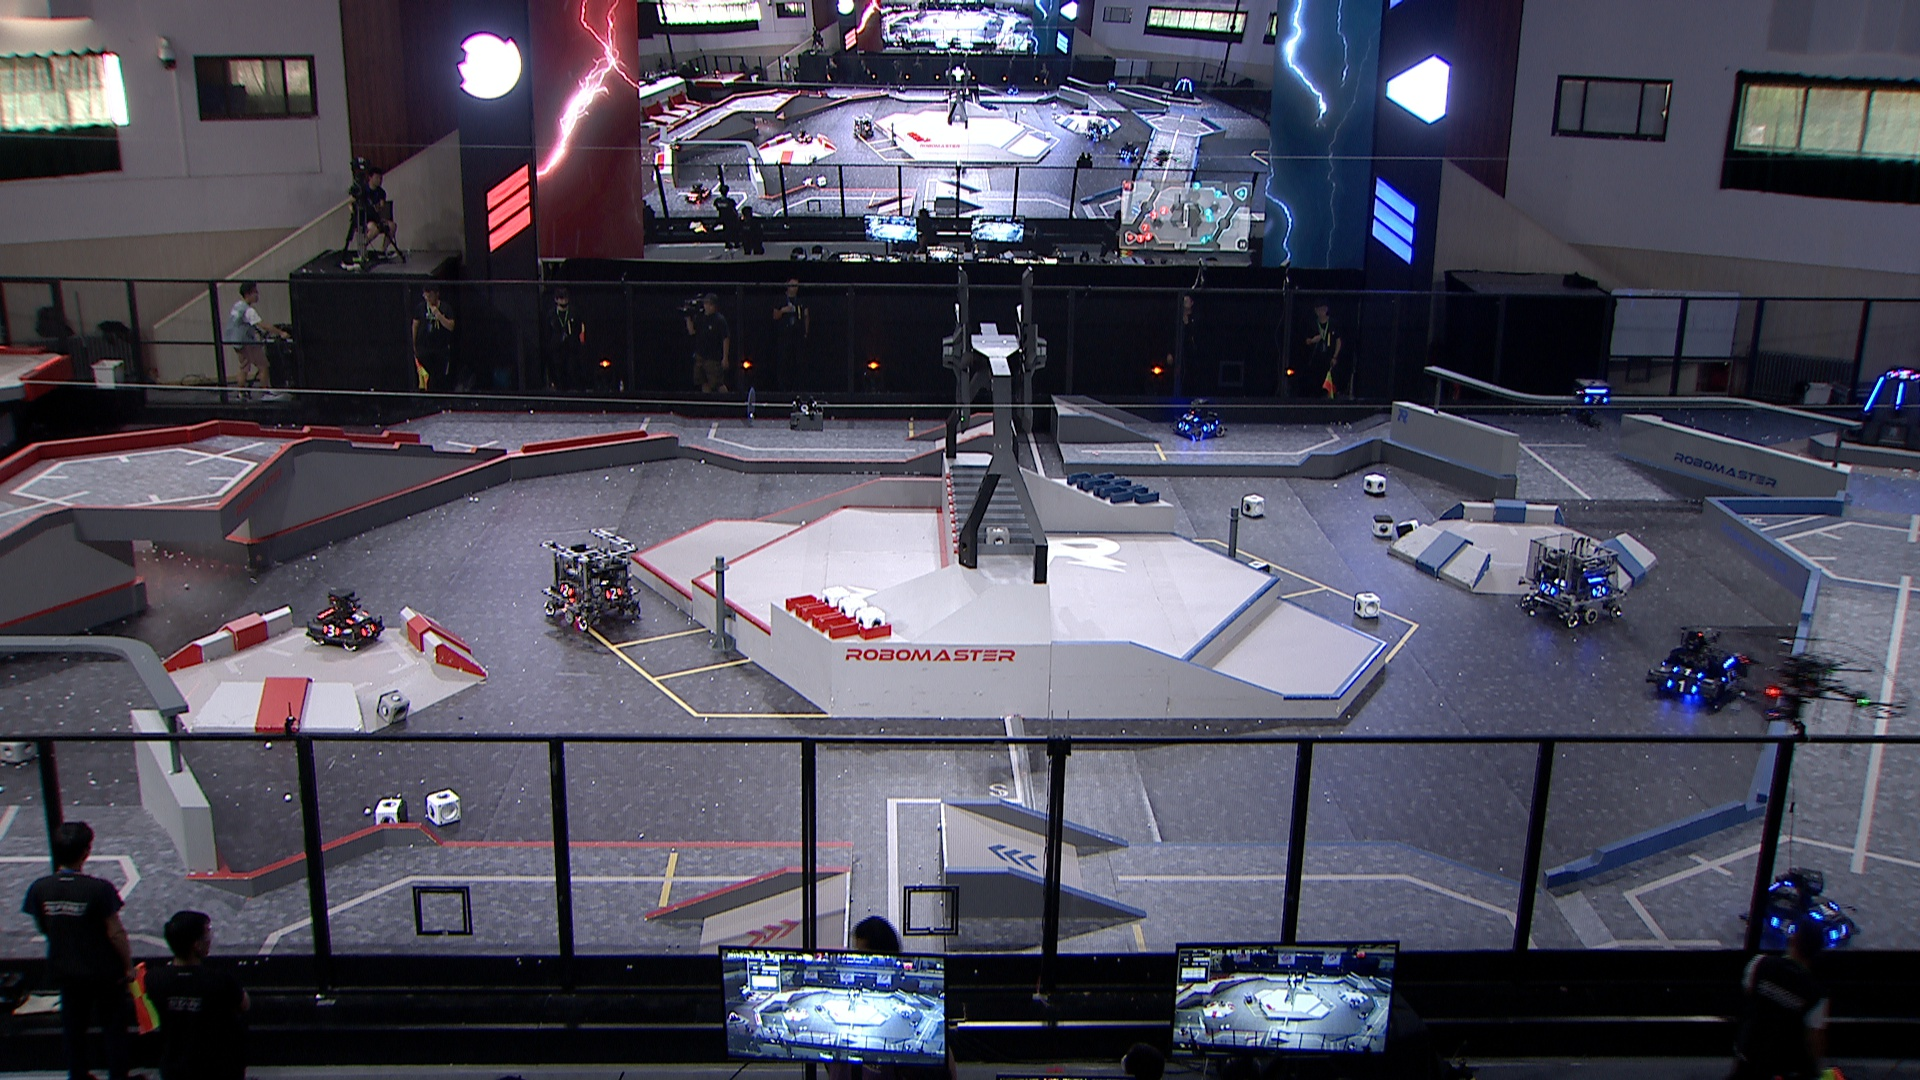armor: (1861, 375, 1884, 413), (1665, 679, 1702, 698), (1770, 915, 1797, 938), (1811, 897, 1840, 918), (1669, 665, 1705, 678), (344, 609, 371, 626), (1582, 392, 1609, 407), (1826, 922, 1849, 940), (320, 622, 343, 640), (1894, 380, 1904, 411), (359, 621, 377, 638), (556, 582, 575, 599), (1718, 669, 1735, 683), (1182, 411, 1200, 425), (604, 585, 622, 599), (1538, 583, 1557, 595), (1589, 585, 1607, 597), (1201, 422, 1218, 433), (1178, 419, 1191, 433)
base: (1842, 365, 1920, 458)
car: (539, 524, 642, 636), (1519, 531, 1629, 632), (1743, 865, 1859, 956), (1650, 622, 1751, 711), (302, 585, 385, 654), (1167, 396, 1226, 442)
ignore: (683, 181, 713, 206), (1084, 117, 1112, 144), (1168, 76, 1197, 98), (851, 117, 876, 140), (1114, 142, 1141, 164), (1888, 371, 1917, 380)
watcher: (1575, 377, 1614, 431)
